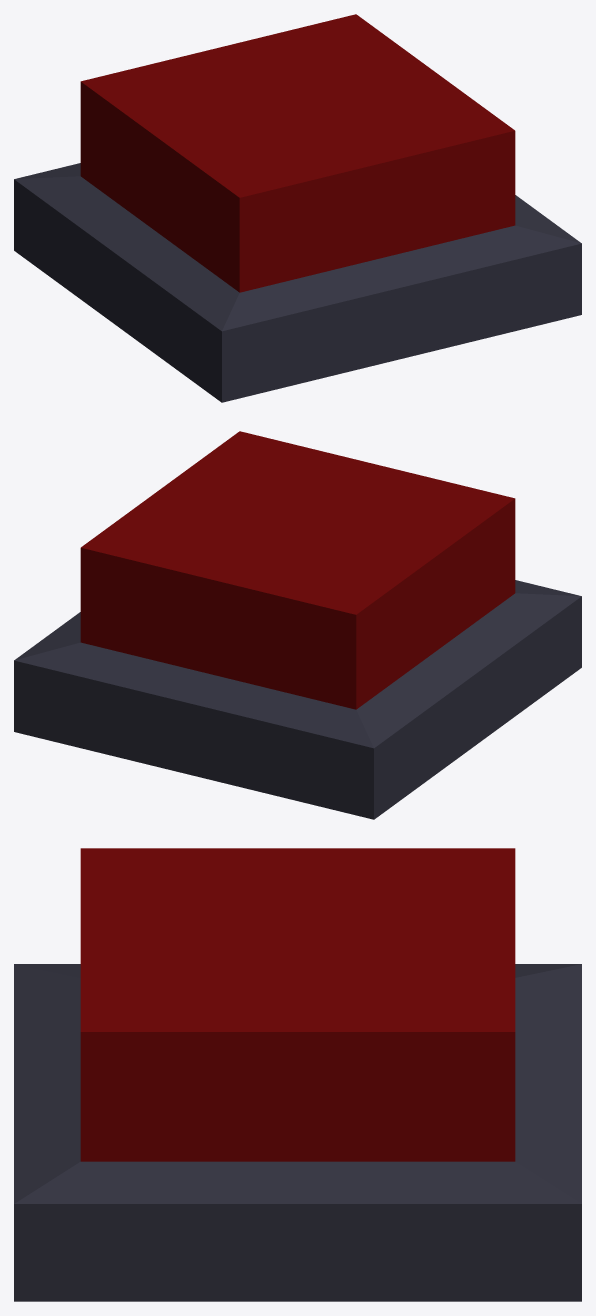
Rendered from Button2.FBX.
3 renders of one model, top to bottom at view 1: azimuth 30°, elevation 25°; view 2: azimuth 150°, elevation 25°; view 3: azimuth 270°, elevation 25°, orthographic. The views are drawn at different scales.
Parts seen in each view (by area): view 1: Top, Base; view 2: Top, Base; view 3: Top, Base.
Boxes of the visible parts, x1,y1,x2,y2 form: Top: (80,14,515,292); Base: (14,163,581,402); Top: (80,431,515,709); Base: (14,580,581,819); Top: (80,848,515,1161); Base: (14,964,581,1301).
Bounding box in the file's own units: 5 × 2.35 × 5.
